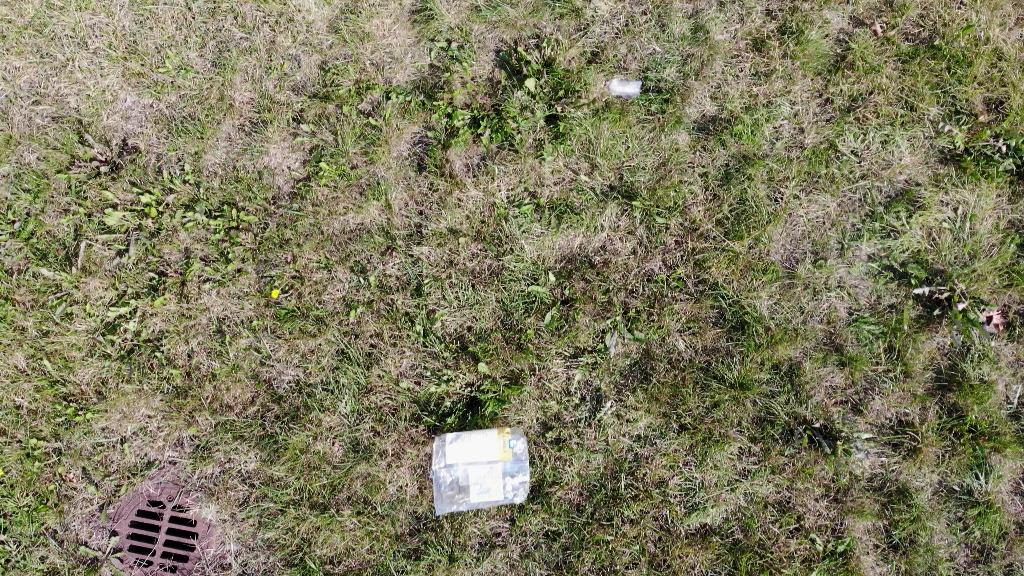garbage: (430, 423, 532, 515), (606, 76, 641, 98)
